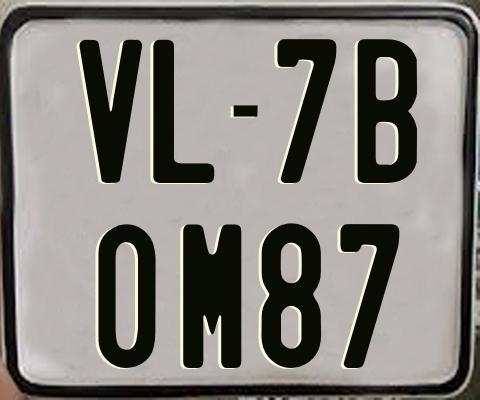0: (95, 222, 158, 370)
7: (337, 224, 399, 374), (276, 39, 337, 186)
8: (259, 220, 323, 366)
B: (358, 39, 417, 187)
L: (152, 40, 218, 187)
M: (181, 221, 243, 371)
V: (79, 38, 142, 186)
